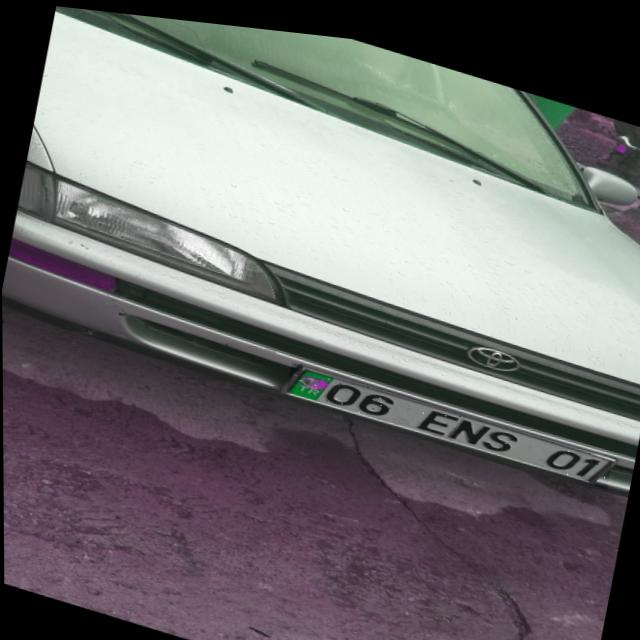license_plate: (285, 355, 612, 476)
